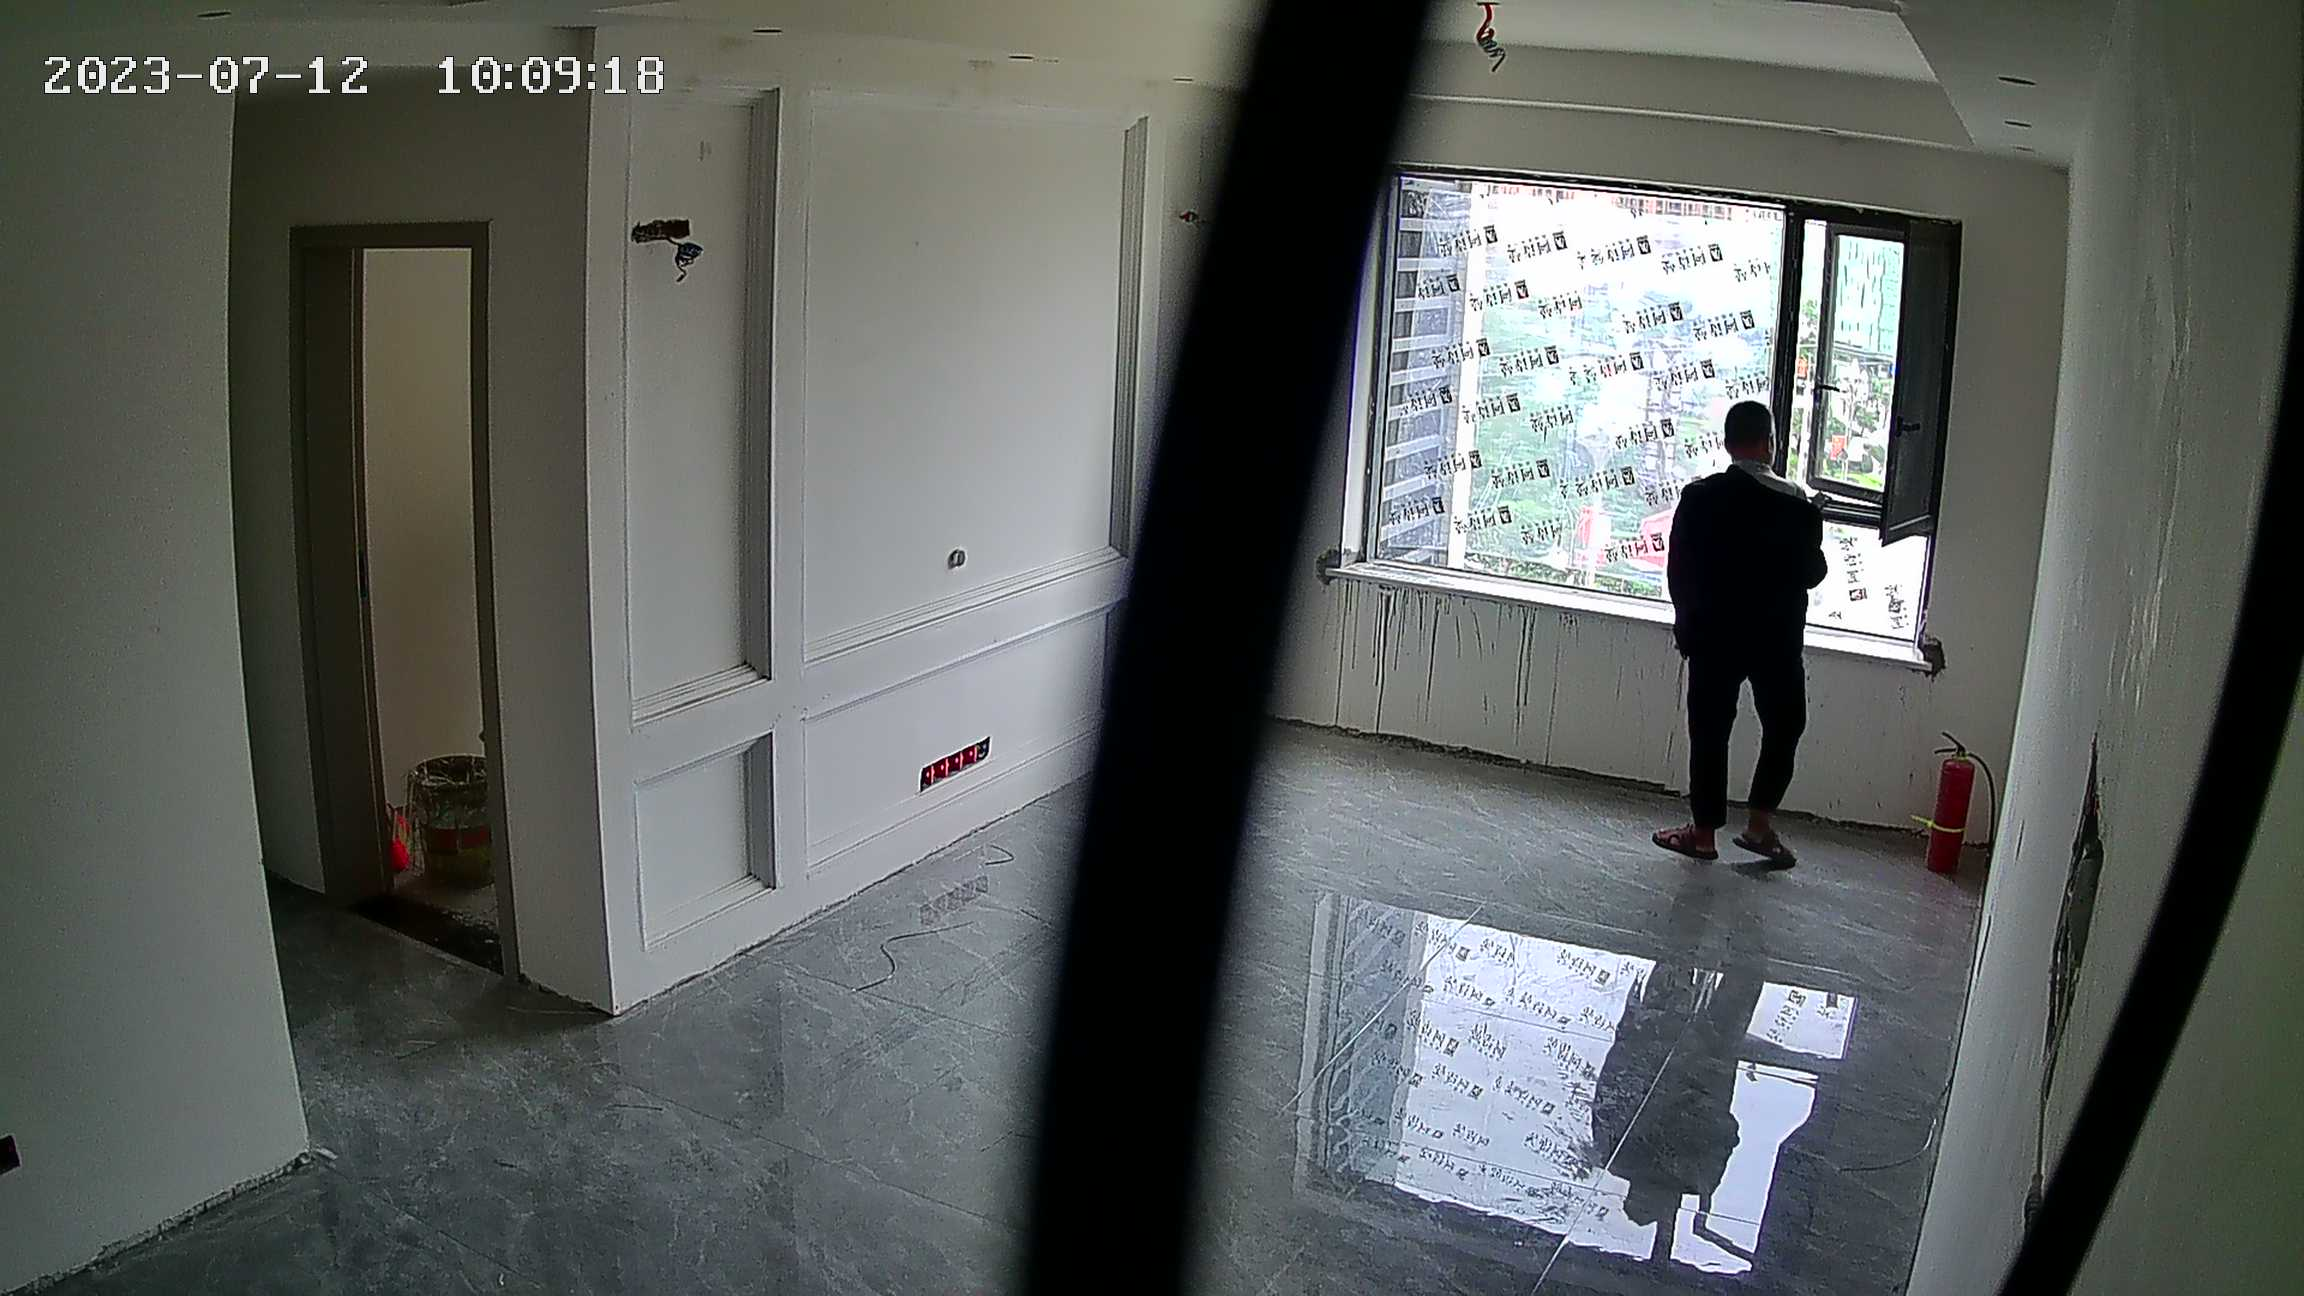people: (1657, 395, 1829, 879)
window: (1383, 169, 1913, 635)
